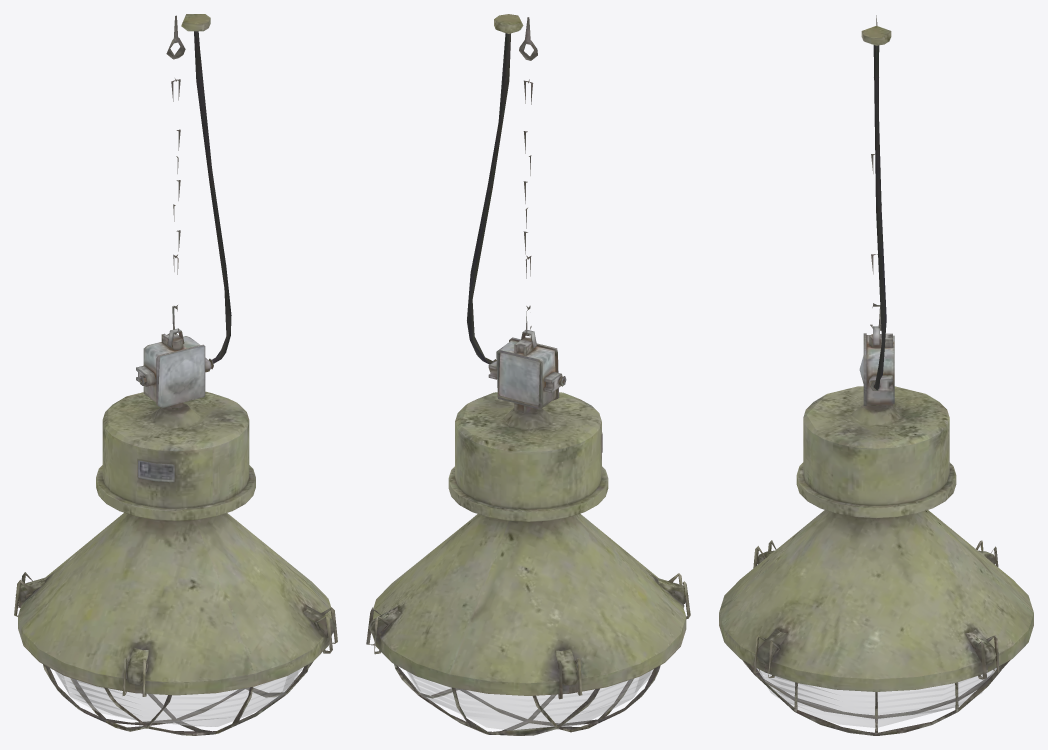
The model's file is lamp_pendant.glb.
3 renders of one model, left to right at view 1: azimuth 30°, elevation 25°; view 2: azimuth 150°, elevation 25°; view 3: azimuth 270°, elevation 25°, orthographic.
Visible parts, largest first — view 1: hanging_industrial_lamp; view 2: hanging_industrial_lamp; view 3: hanging_industrial_lamp.
Boxes of the visible parts, x1,y1,x2,y2 form: hanging_industrial_lamp: (14, 14, 337, 735); hanging_industrial_lamp: (366, 14, 690, 735); hanging_industrial_lamp: (719, 15, 1033, 735).
Bounding box in the file's own units: 0.5497 × 1.36 × 0.5497.
Materials: 2 (1 with a texture image).
